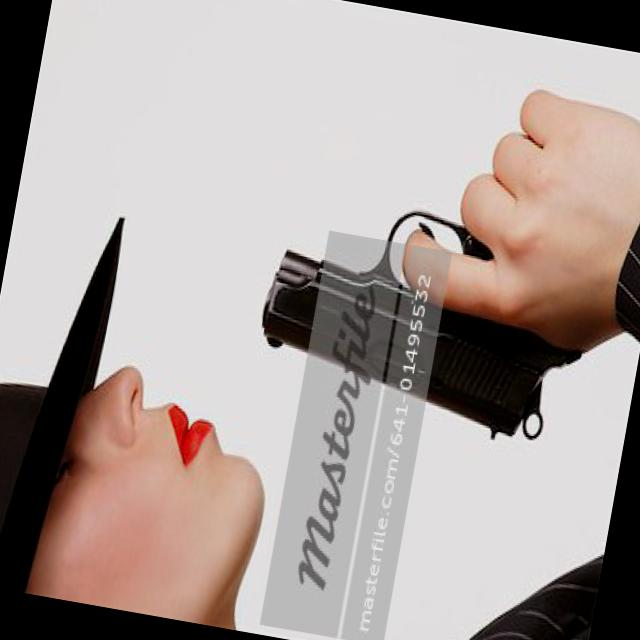handgun: (244, 146, 605, 474)
